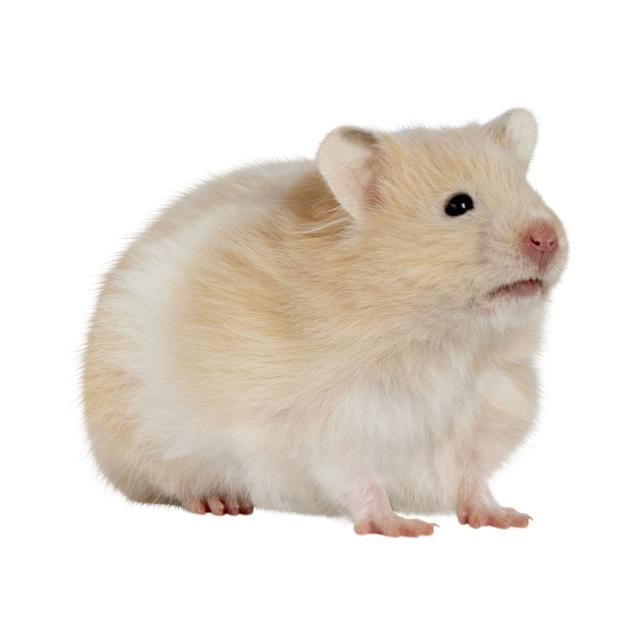hamster: (84, 108, 568, 538)
